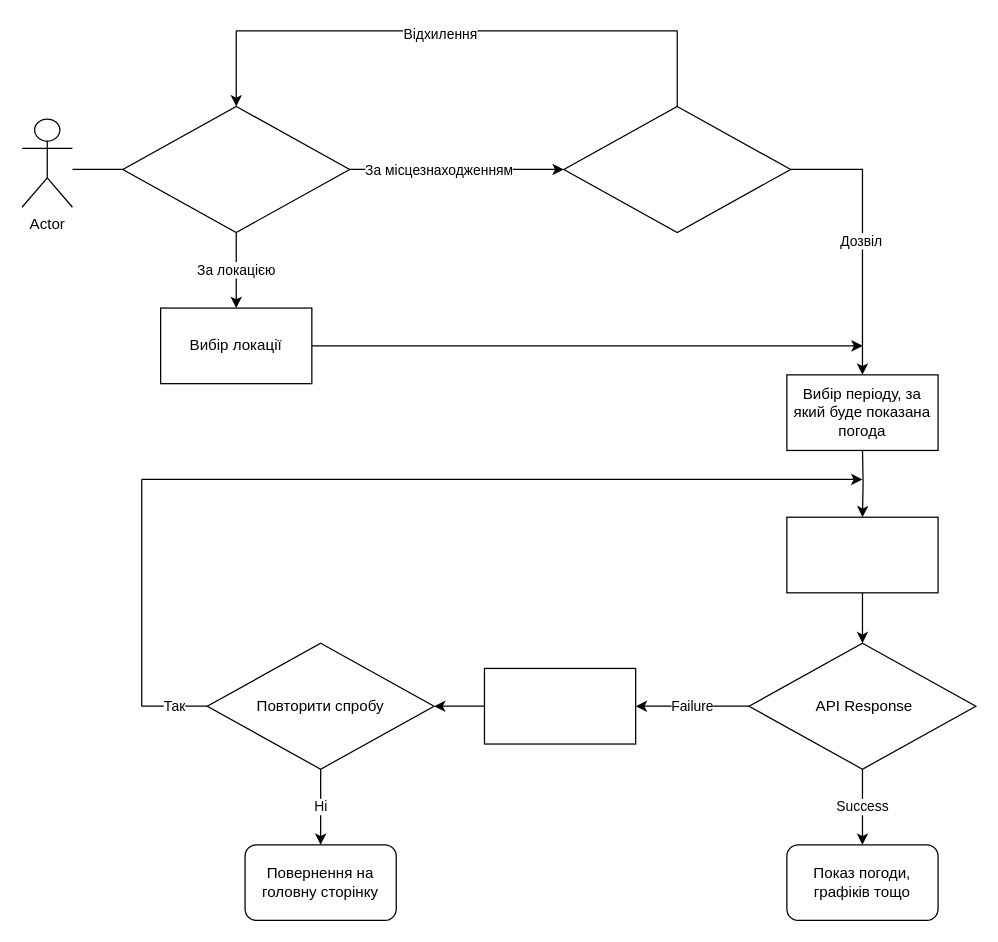
Some shapes in this 998 by 942 pixel diagram are drawn without their labels. Each missing label, with the centre of its shape:
"Вивід інформації про помилку" goes at [559,705].
"Відправка запиту на API" goes at [862,554].
"Запит на увімкнення геолокації" goes at [677,168].
"Перегляд погоди: за місцезнаходженням чи за локацією" goes at [236,168].
